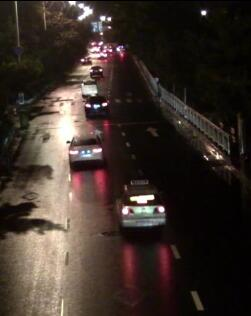car: (113, 177, 168, 231), (64, 132, 103, 170), (83, 96, 107, 115), (81, 76, 98, 94), (88, 65, 101, 77)
